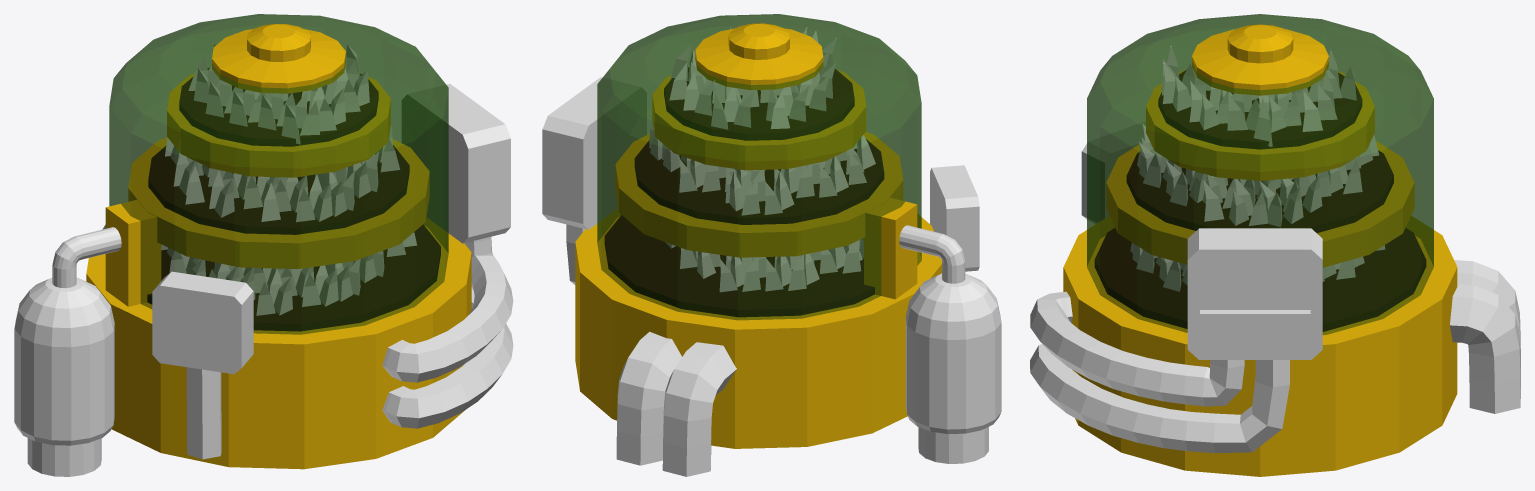
Rendered from PlantingMachine.glb.
3 views of the same model, side by side, from view 1: azimuth 30°, elevation 25°; view 2: azimuth 150°, elevation 25°; view 3: azimuth 270°, elevation 25° (orthographic). The views are drawn at different scales.
Parts seen in each view (by area): view 1: Cube.001; view 2: Cube.001; view 3: Cube.001.
Boxes of the visible parts, x1,y1,x2,y2 form: Cube.001: [14, 14, 513, 476]; Cube.001: [542, 14, 1001, 476]; Cube.001: [1030, 14, 1520, 476].
Bounding box in the file's own units: 3.97 × 3.24 × 3.71.
